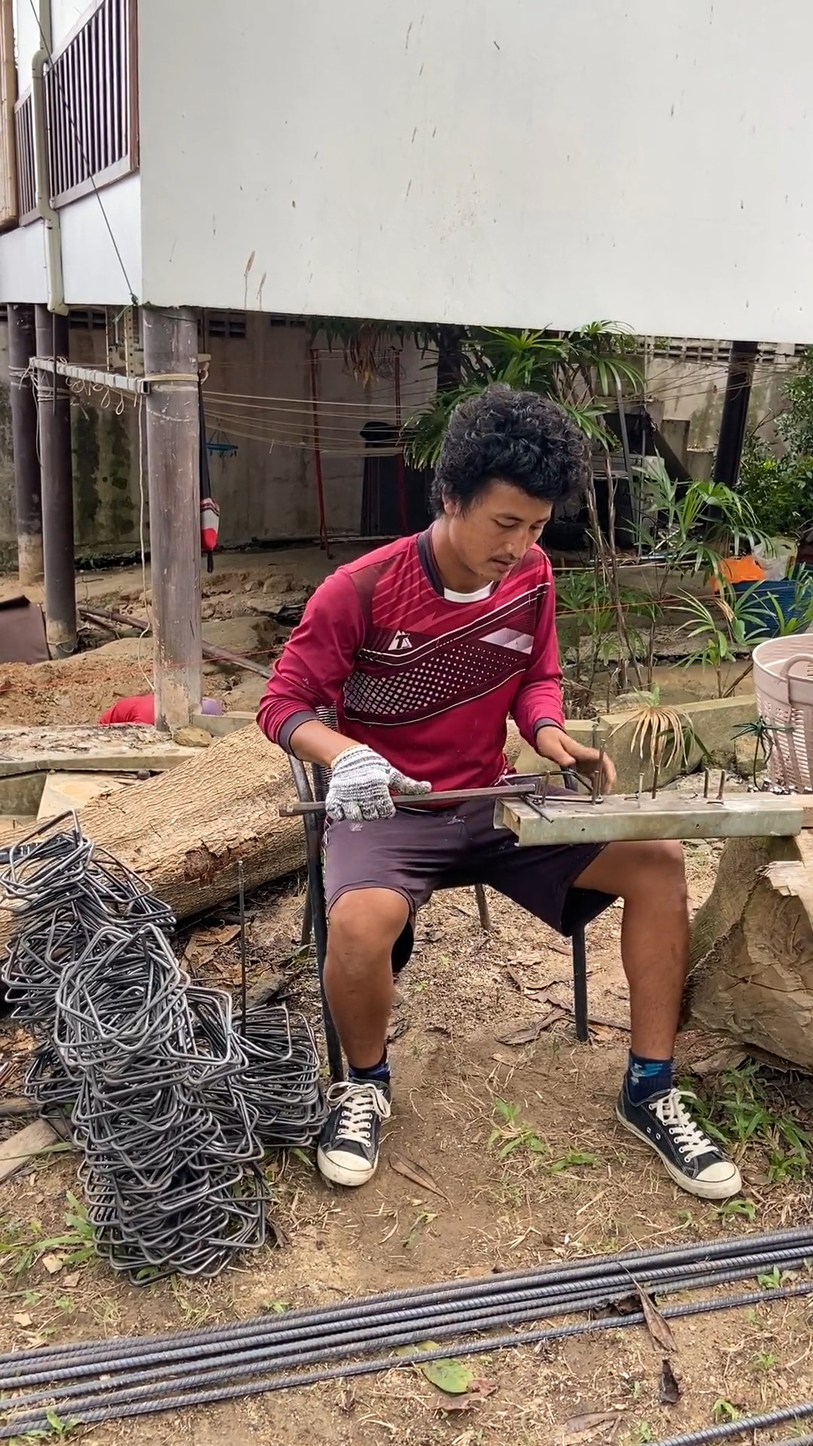No-gloves: (537, 710, 630, 786)
gloves: (314, 738, 432, 836)
